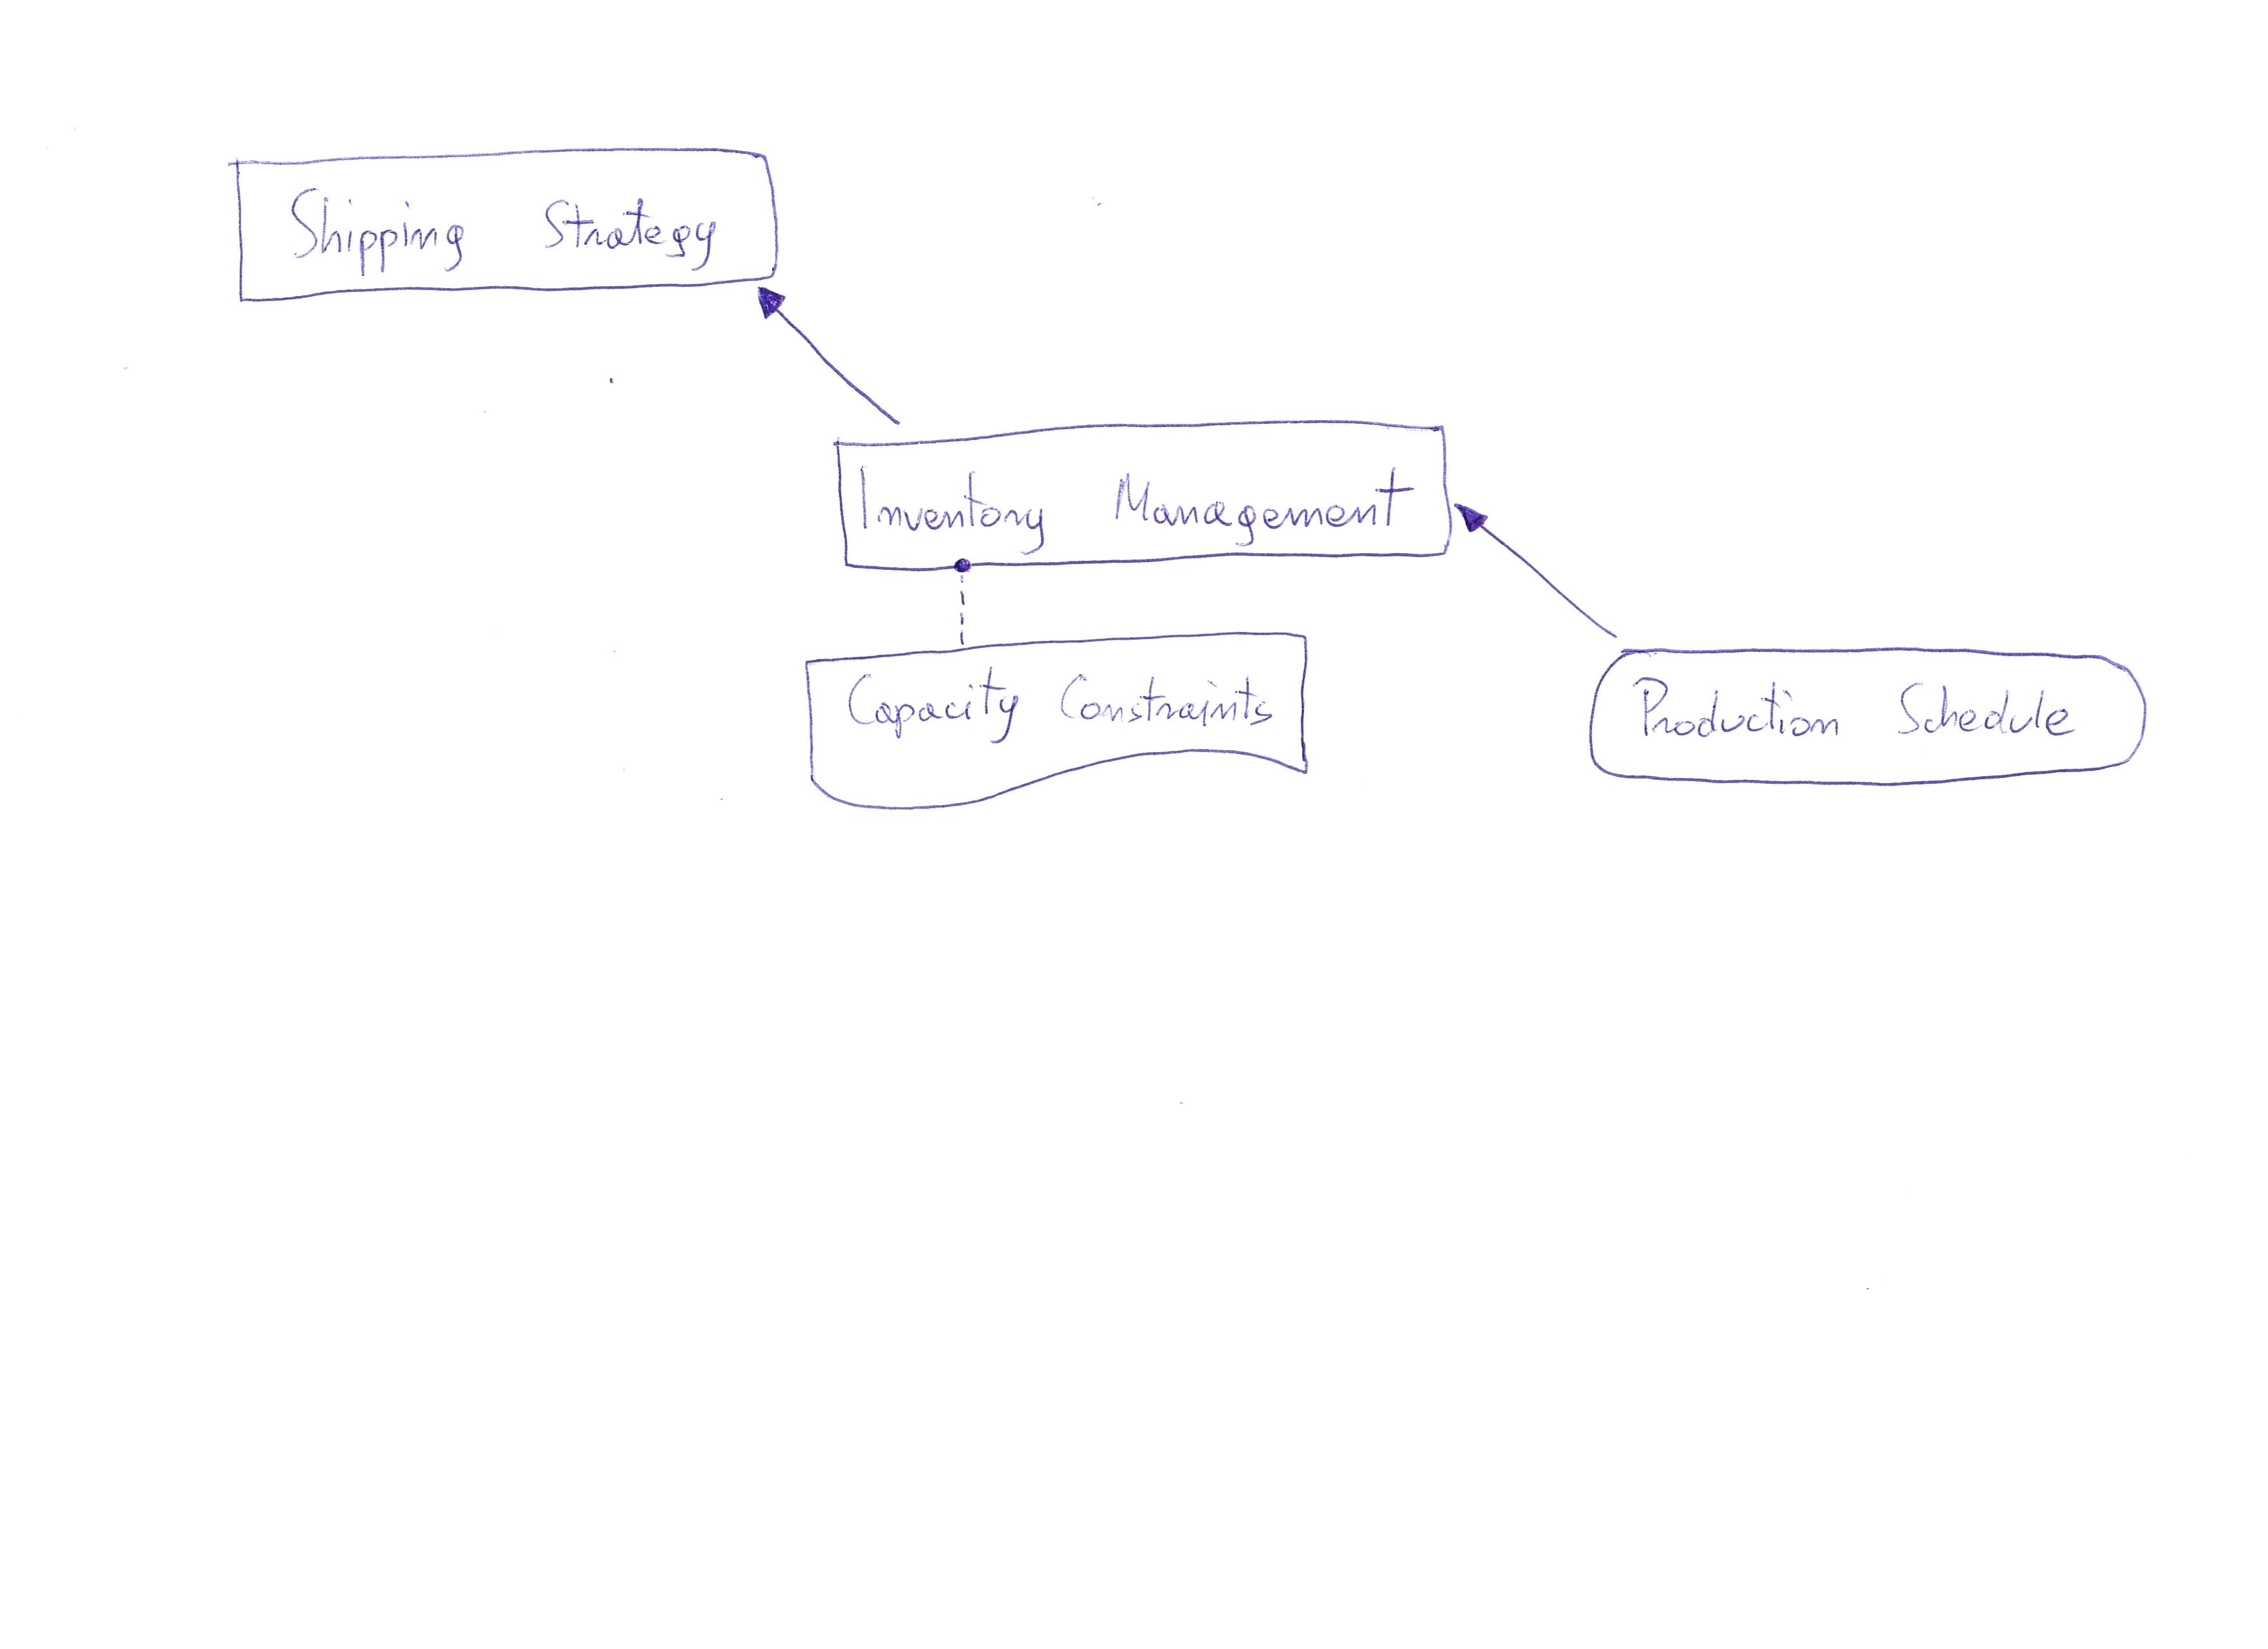arrow_authority_requirement: (947, 557, 979, 650)
arrow_information_requirement: (747, 280, 923, 433), (1453, 497, 1631, 648)
node_decision: (815, 418, 1458, 576), (224, 143, 780, 296)
node_input_data: (1574, 640, 2168, 802)
node_knowledge_source: (799, 631, 1315, 821)
text: (849, 456, 1428, 553), (276, 180, 731, 277), (1629, 668, 2101, 756), (842, 664, 1280, 745)
